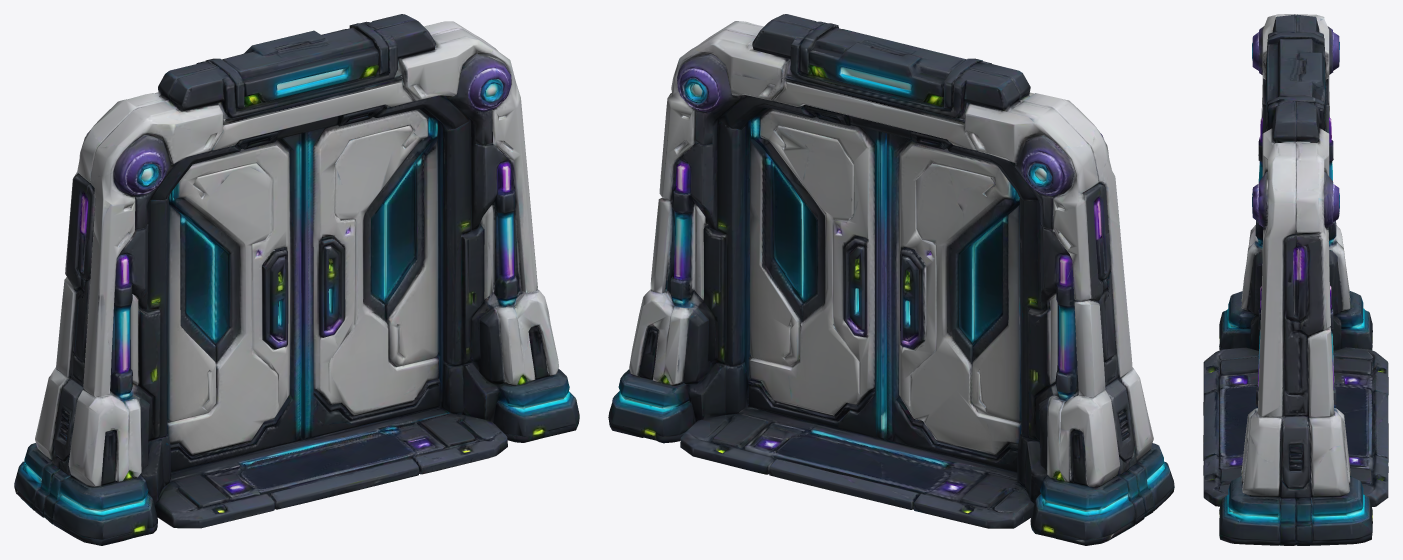
The model's file is model-17-lab-door.glb.
The picture shows the model from 3 angles, left to right: view 1: azimuth 30°, elevation 25°; view 2: azimuth 150°, elevation 25°; view 3: azimuth 270°, elevation 25°; orthographic projection. The views are drawn at different scales.
Parts seen in each view (by area): view 1: node_0; view 2: node_0; view 3: node_0.
Boxes of the visible parts, x1=… form: node_0: x1=14, y1=14, x2=579, y2=545; node_0: x1=608, y1=14, x2=1174, y2=545; node_0: x1=1203, y1=14, x2=1388, y2=545.
Bounding box in the file's own units: 0.9495 × 0.7311 × 0.3318.
1 material, 1 textured.
